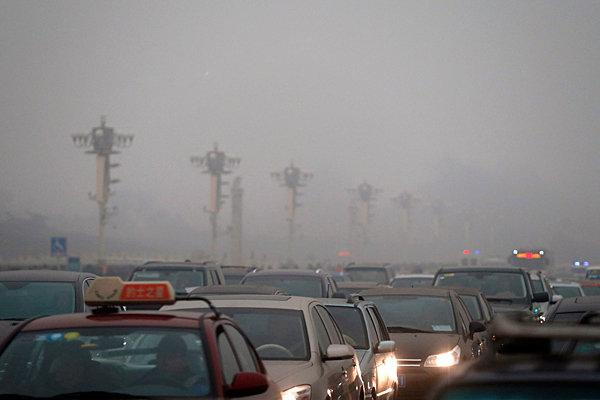bus: (505, 246, 556, 301)
car: (1, 274, 282, 400), (114, 290, 357, 400), (337, 286, 492, 400), (259, 293, 399, 400), (412, 324, 599, 400), (425, 265, 552, 354), (1, 267, 123, 357), (117, 257, 229, 335), (232, 267, 344, 343), (395, 287, 502, 362), (482, 266, 564, 329), (376, 271, 449, 326), (335, 260, 397, 313)
